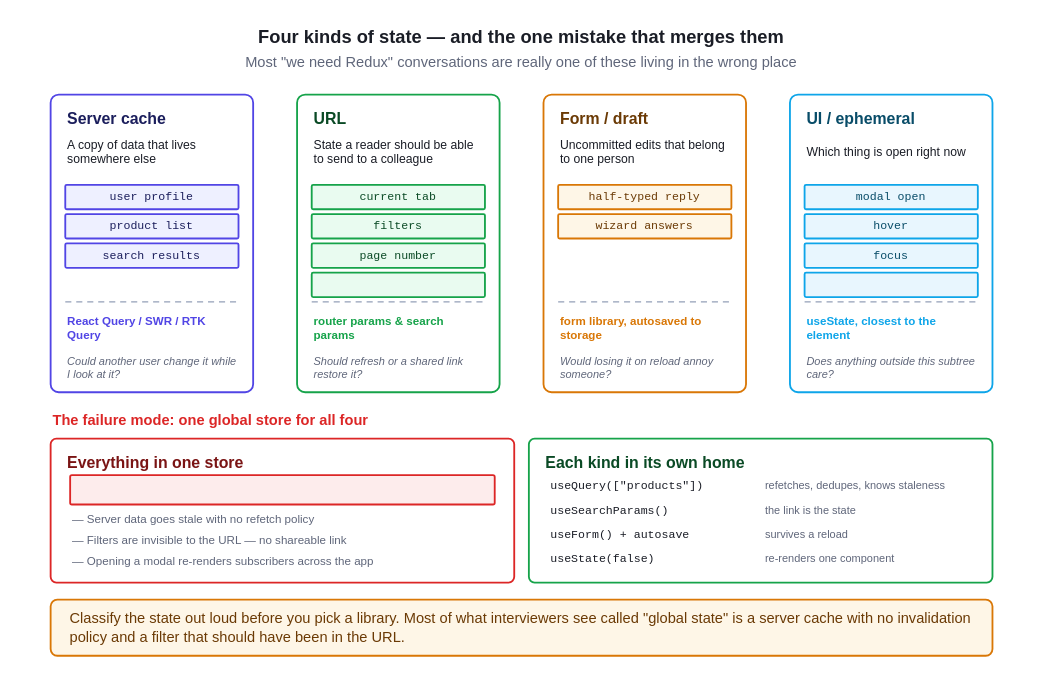
Some shapes in this 1042 by 677 pixel diagram are drawn without their labels. The shapes that lost their labels are listed below. From the top down, each one's centre as x and y in pixels, then its label:
At [397,284]: "sort".
At [890,284]: "toast queue".
At [282,489]: "store = { user, products, filters, modalOpen, draft }".
